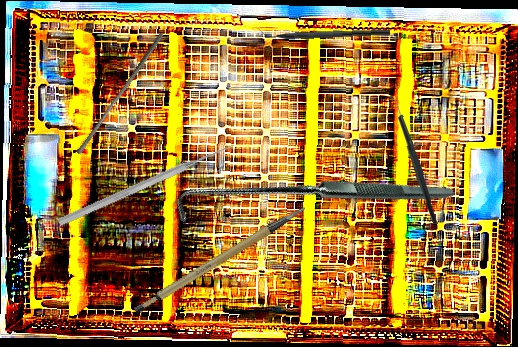Chopper: (381, 96, 443, 224), (256, 19, 391, 43)
Hook Surgical: (169, 59, 455, 344)
Pusher: (56, 139, 237, 229), (75, 29, 165, 158)
Scalpel Handle: (123, 206, 319, 317)
